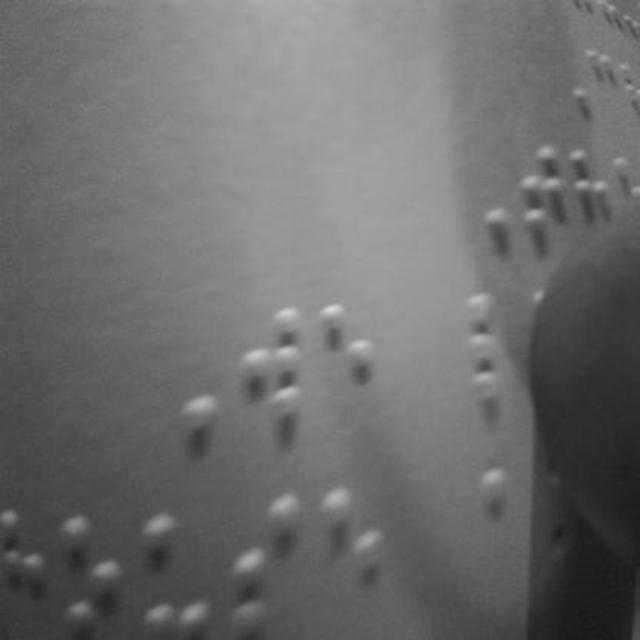braiile: (56, 490, 132, 640), (228, 490, 302, 640), (137, 494, 209, 640), (319, 484, 386, 640), (233, 298, 305, 430), (316, 293, 380, 423), (0, 492, 56, 640), (465, 289, 535, 405)
